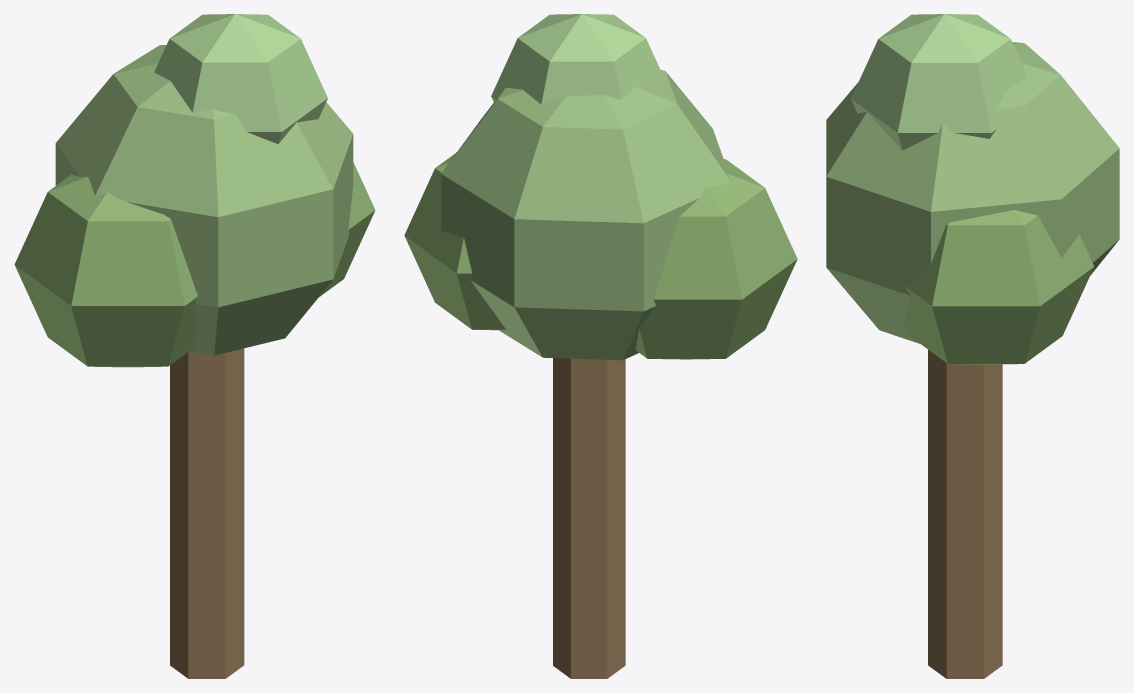
The model's file is tree_small.glb.
3 renders of one model, left to right at view 1: azimuth 30°, elevation 25°; view 2: azimuth 150°, elevation 25°; view 3: azimuth 270°, elevation 25°, orthographic. The views are drawn at different scales.
Parts seen in each view (by area): view 1: Tree_Small; view 2: Tree_Small; view 3: Tree_Small.
Boxes of the visible parts, x1,y1,x2,y2 form: Tree_Small: [14, 14, 375, 678]; Tree_Small: [404, 14, 797, 678]; Tree_Small: [826, 14, 1119, 678].
Bounding box in the file's own units: 1.83 × 3.5 × 1.41.
